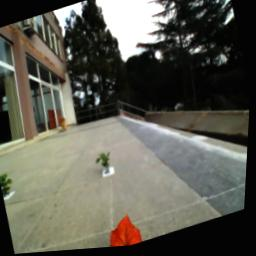herb: (1, 172, 21, 201), (97, 151, 118, 178)
wild: (105, 212, 148, 250)
